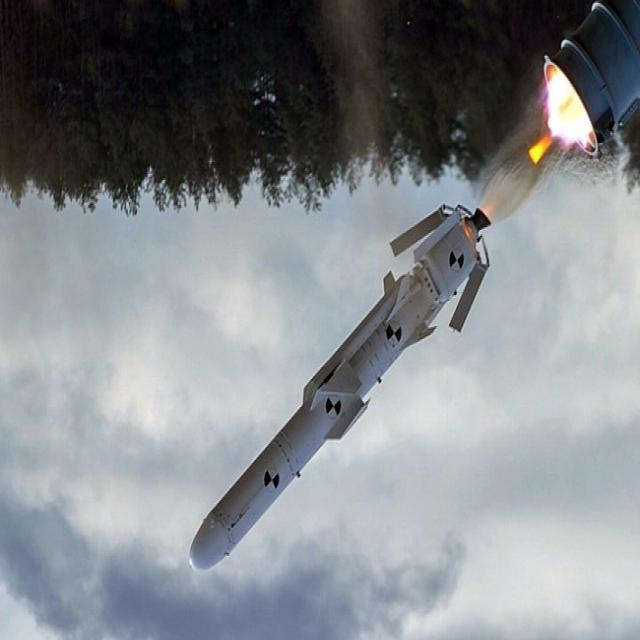missile: (176, 201, 492, 594)
